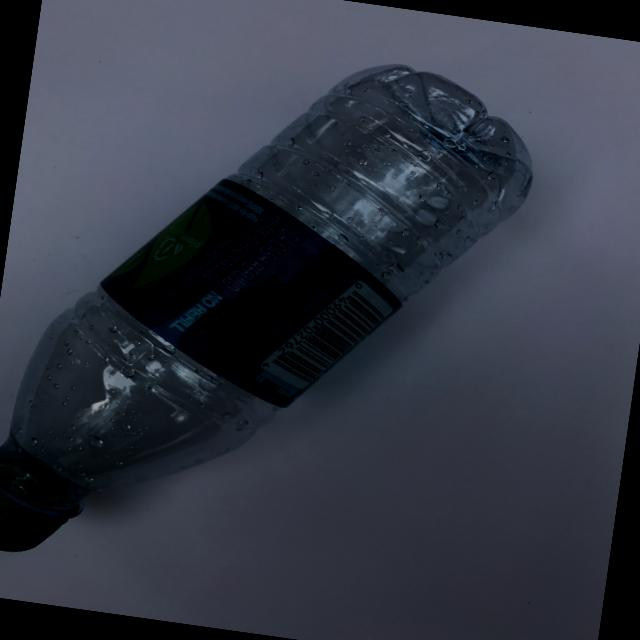Plastic: (0, 0, 587, 637)
